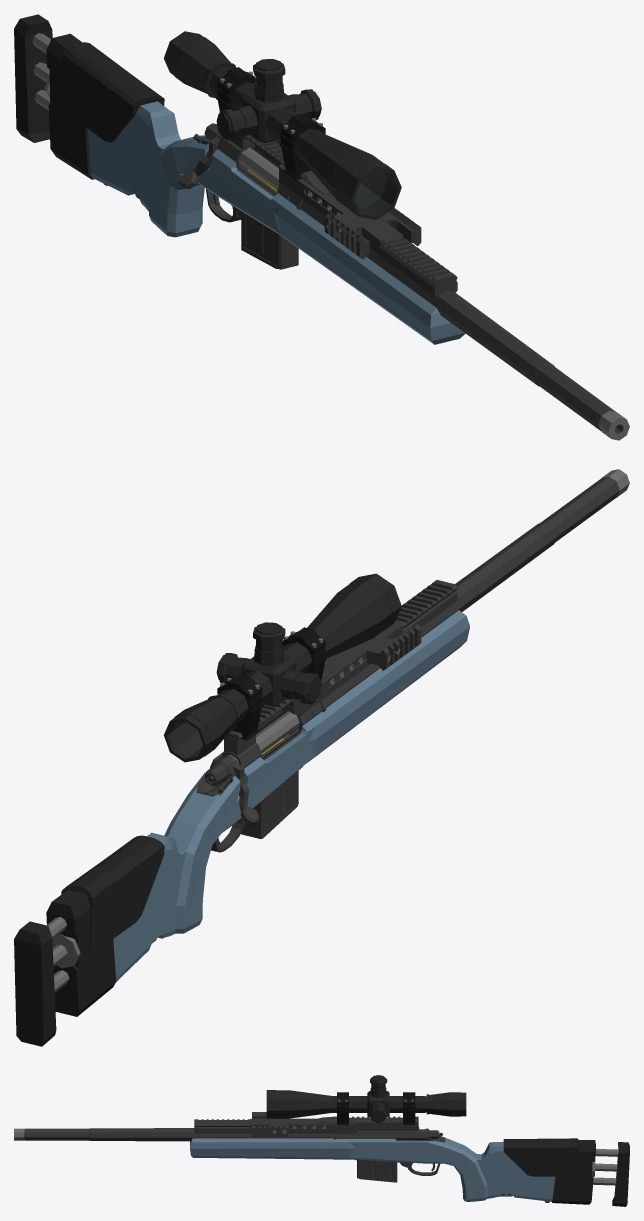
3 renders of one model, top to bottom at view 1: azimuth 30°, elevation 25°; view 2: azimuth 150°, elevation 25°; view 3: azimuth 270°, elevation 25°, orthographic. The views are drawn at different scales.
Parts seen in each view (by area): view 1: Object_4, Scope_Leupold_Mk4_M3, Object_10, Object_12, Object_11; view 2: Object_4, Scope_Leupold_Mk4_M3, Object_10, Object_12, Object_11; view 3: Object_4, Object_10, Scope_Leupold_Mk4_M3, Object_12, Object_11.
Boxes of the visible parts, box(x1,y1,x2,y2) form: Object_4: box(88, 101, 465, 344); Scope_Leupold_Mk4_M3: box(164, 31, 421, 259); Object_10: box(103, 123, 623, 433); Object_12: box(14, 14, 164, 179); Object_11: box(32, 33, 629, 440); Object_4: box(113, 610, 469, 981); Scope_Leupold_Mk4_M3: box(163, 573, 421, 762); Object_10: box(153, 477, 619, 940); Object_12: box(14, 835, 164, 1046); Object_11: box(46, 469, 629, 992); Object_4: box(190, 1137, 555, 1201); Object_10: box(24, 1115, 549, 1202); Scope_Leupold_Mk4_M3: box(252, 1075, 466, 1136); Object_12: box(503, 1138, 629, 1206); Object_11: box(14, 1125, 618, 1196).
Size of the model in its own units: 0.1152 by 0.2914 by 1.29.
